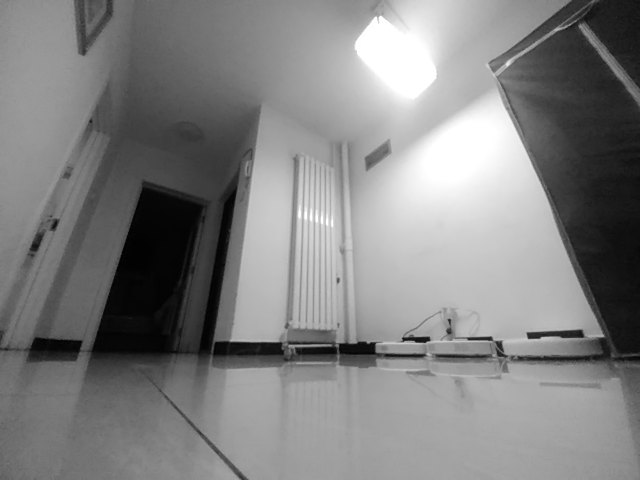toy: (279, 342, 301, 361)
